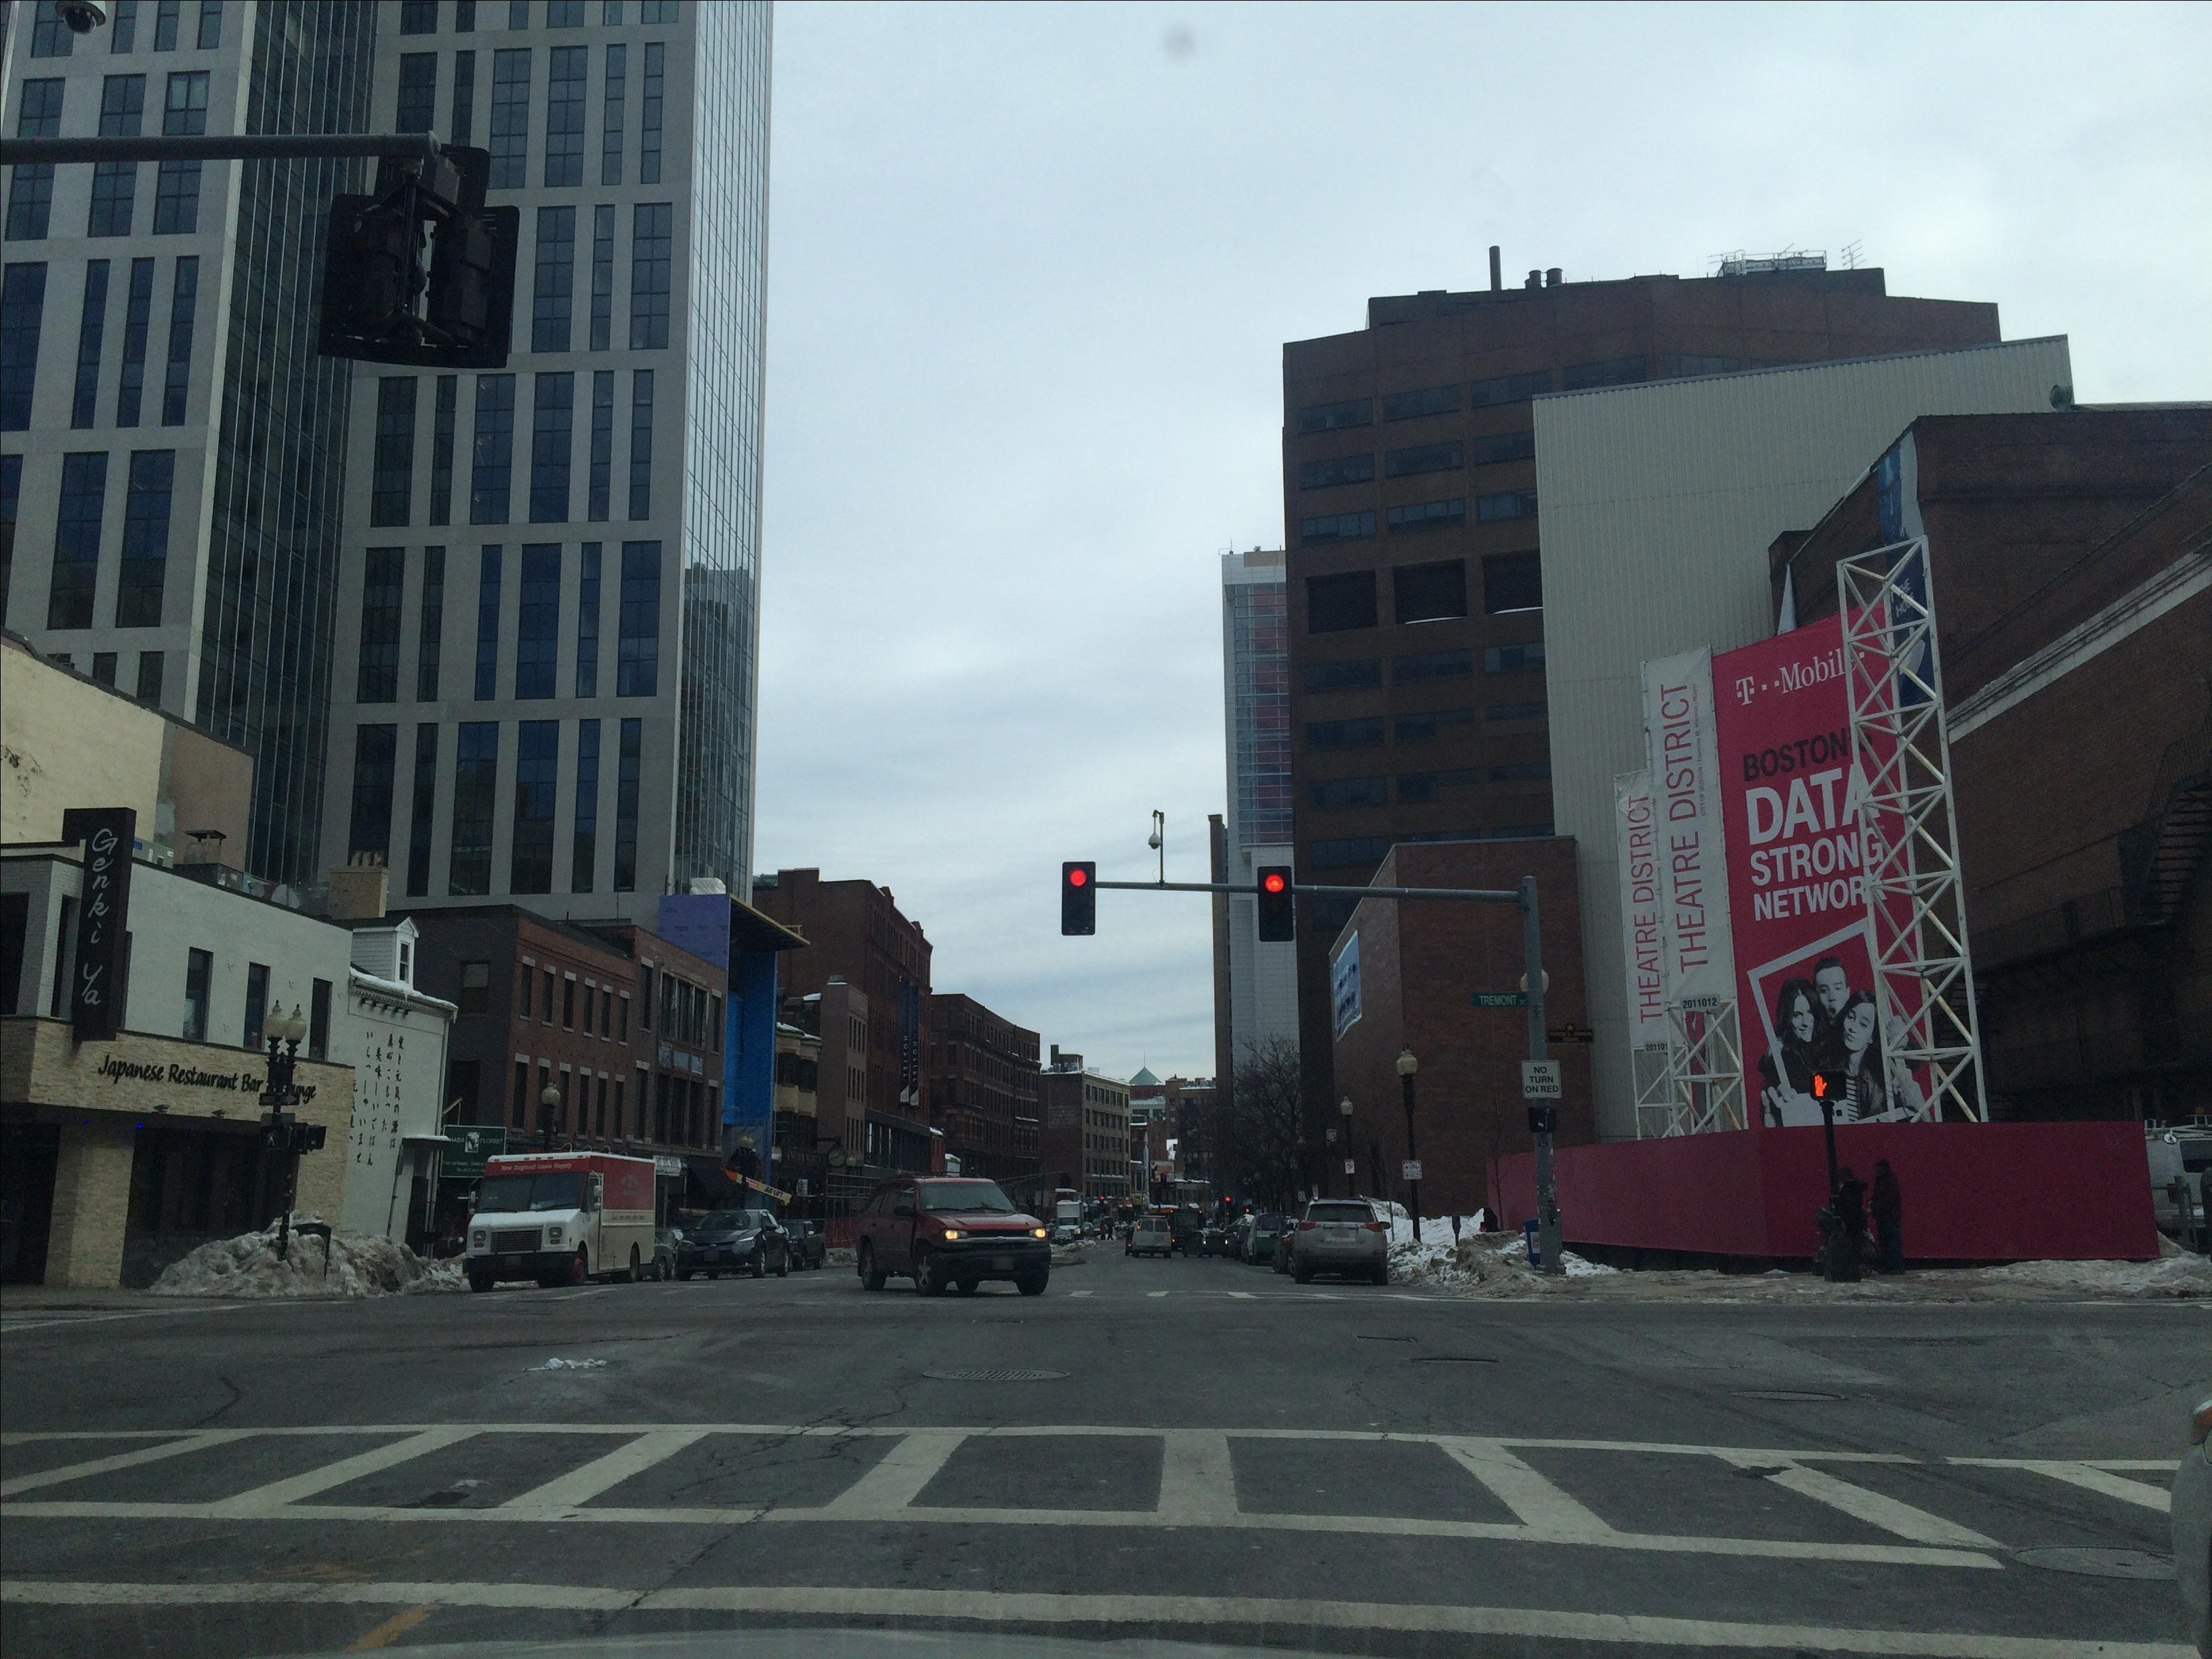vinyl banner: (1715, 589, 1923, 1140), (1644, 652, 1738, 1000), (1609, 767, 1687, 1053)
